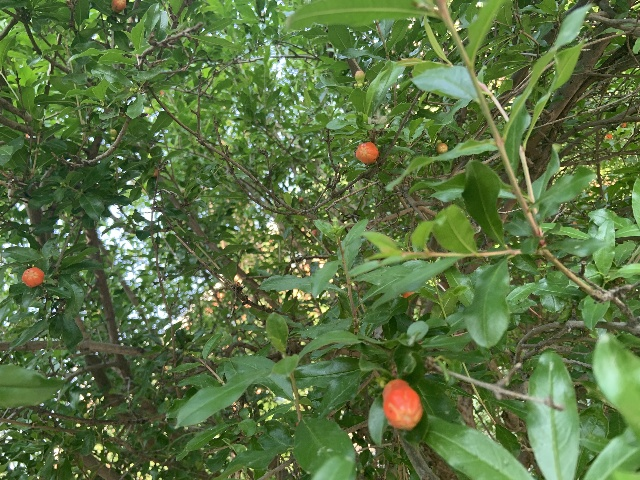bud: (382, 378, 423, 430), (21, 266, 45, 287), (356, 141, 378, 163), (111, 0, 126, 12), (354, 70, 365, 84), (436, 142, 448, 154)
